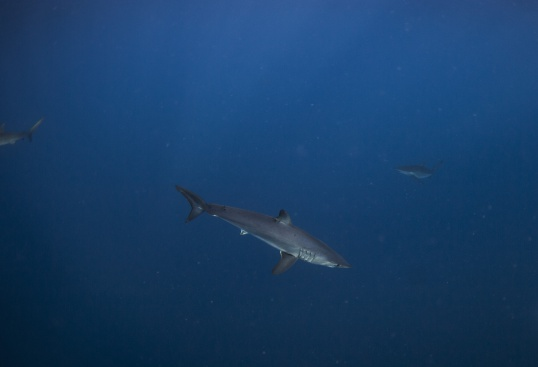Mako: (152, 169, 362, 282)
